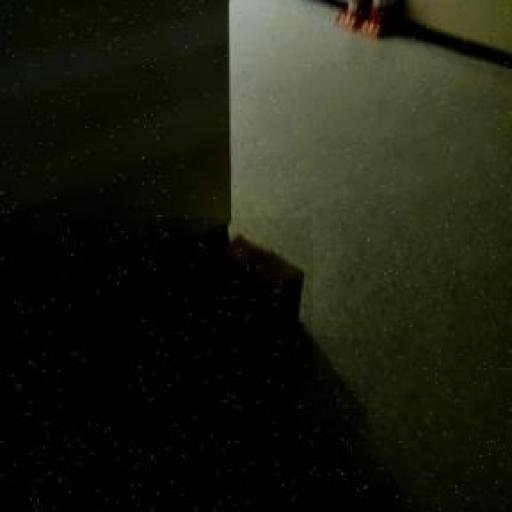box: (146, 218, 313, 376)
